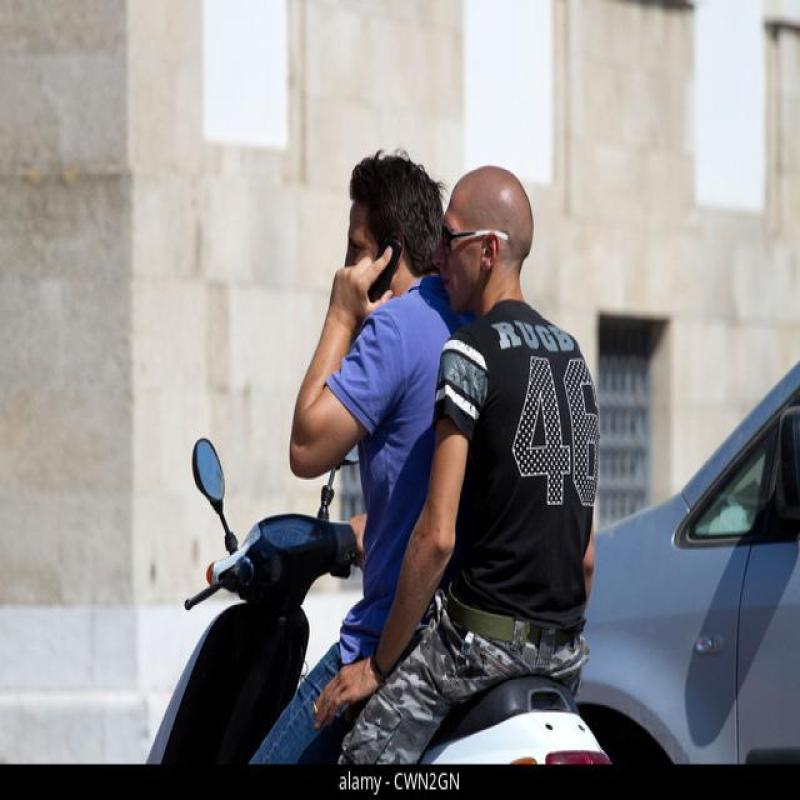nohelmet: (332, 143, 438, 308), (439, 162, 542, 296)
